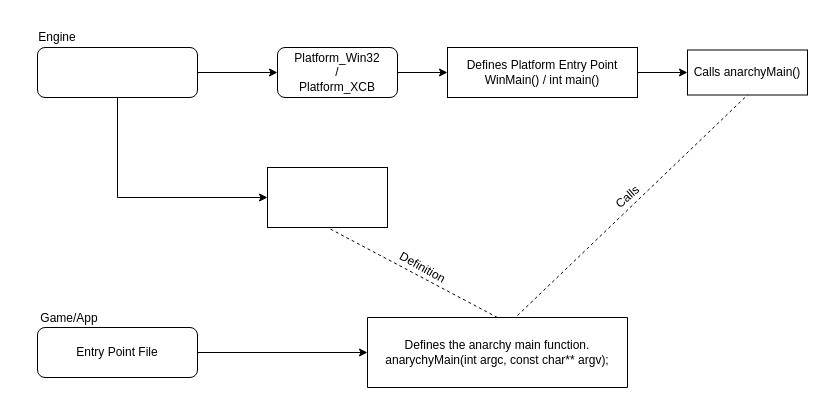
Some shapes in this 825 by 405 pixel diagram are drawn without their labels. Each missing label, with the centre of its shape:
"Declares anarchyMain function" belongs at point (327, 197).
"Platform" belongs at point (117, 72).
